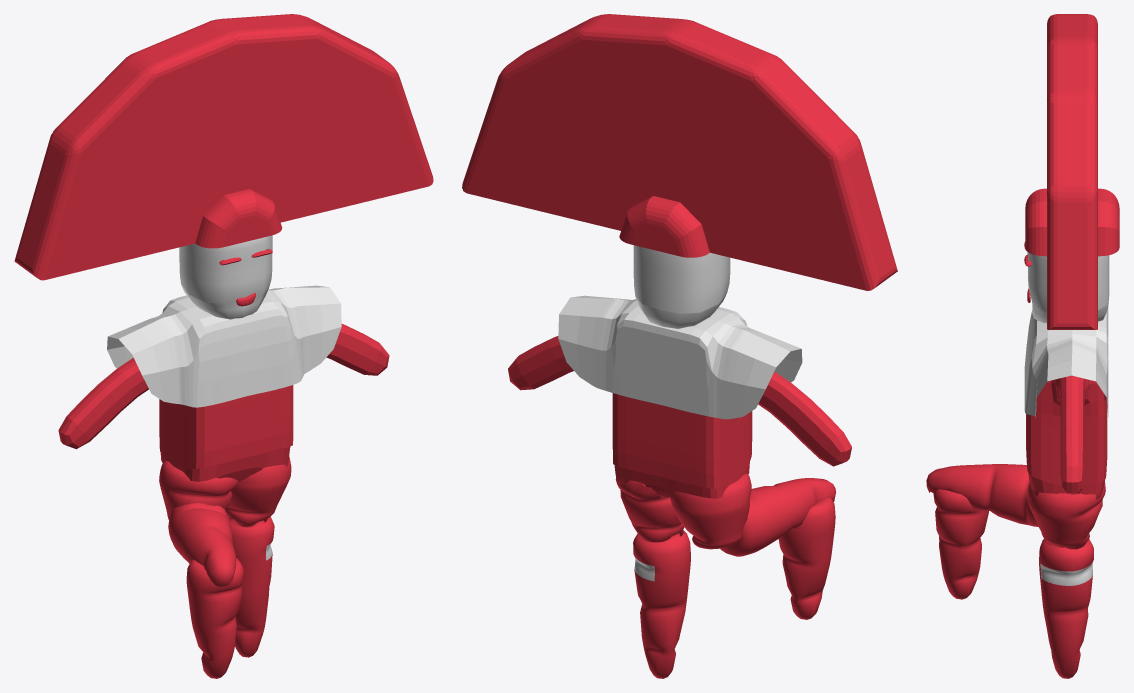
File: danzante.glb
The picture shows the model from 3 angles, left to right: view 1: azimuth 30°, elevation 25°; view 2: azimuth 150°, elevation 25°; view 3: azimuth 270°, elevation 25°; orthographic projection. The views are drawn at different scales.
Parts seen in each view (by area): view 1: DanzanteTop, DanzanteMid, DanzanteBottom; view 2: DanzanteTop, DanzanteMid, DanzanteBottom; view 3: DanzanteTop, DanzanteBottom, DanzanteMid.
Part boxes in pixels (x1=…): DanzanteTop: x1=14, y1=14, x2=433, y2=306; DanzanteMid: x1=58, y1=284, x2=389, y2=469; DanzanteBottom: x1=159, y1=446, x2=291, y2=678; DanzanteTop: x1=462, y1=14, x2=897, y2=313; DanzanteMid: x1=508, y1=294, x2=851, y2=488; DanzanteBottom: x1=614, y1=462, x2=836, y2=678; DanzanteTop: x1=1024, y1=14, x2=1119, y2=329; DanzanteBottom: x1=926, y1=464, x2=1105, y2=678; DanzanteMid: x1=1024, y1=298, x2=1108, y2=494.
Size of the model in its own units: 1.74 by 2.64 by 0.7358.
